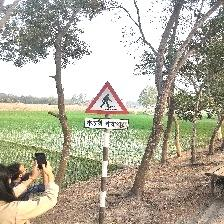Pedestrian-crossing: (84, 81, 130, 131)
